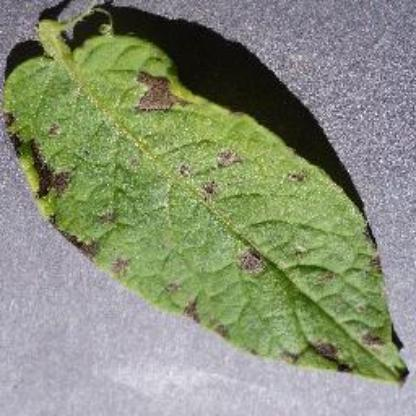Early-Blight: (2, 13, 406, 386)
